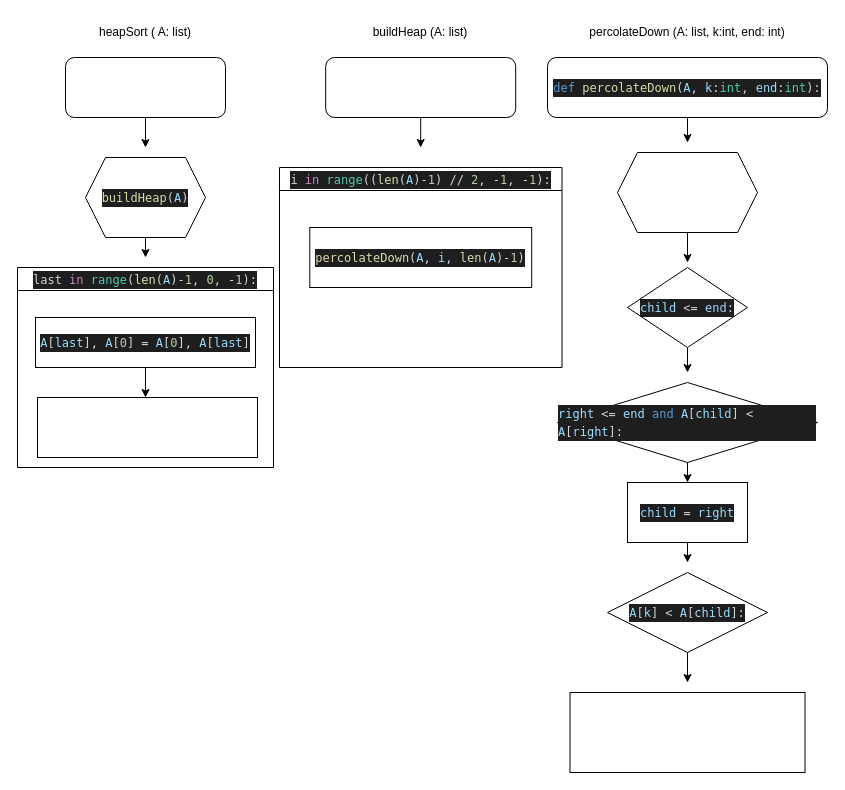
This 845x790 diagram has some shape labels left out. The centre of each missing label's shape, as x and y in pixels:
"A [ k ], A [ child ] = A [ child ], A [ k ] percolateDown( A , child , end )" goes at pixel 687 732.
"child = 2 * k + 1 right = 2 * k + 2" goes at pixel 687 192.
"def buildHeap ( A ):" goes at pixel 420 87.
"def heapSort ( A ):" goes at pixel 145 87.
"percolateDown ( A , 0 , last - 1 )" goes at pixel 147 427.
